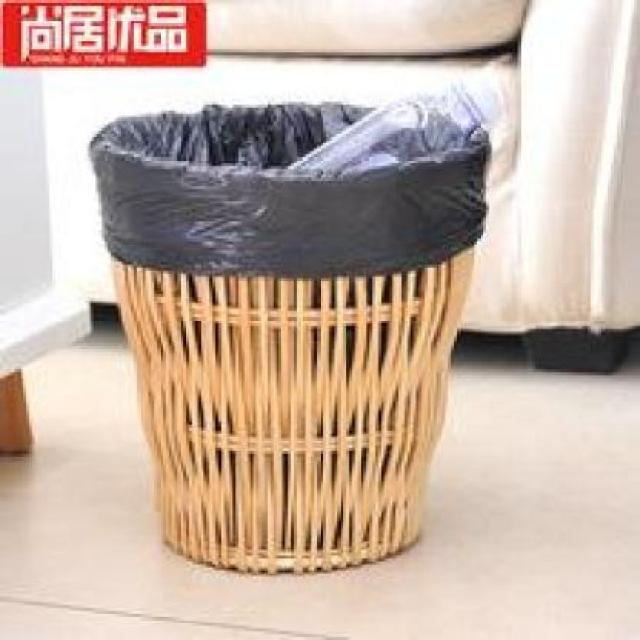dustbin: (88, 100, 498, 589)
